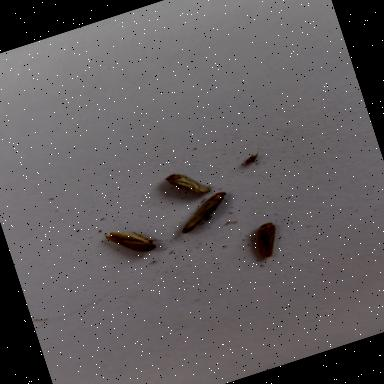pbw: (172, 188, 238, 234), (106, 218, 162, 263), (162, 165, 214, 204), (244, 221, 284, 262)
